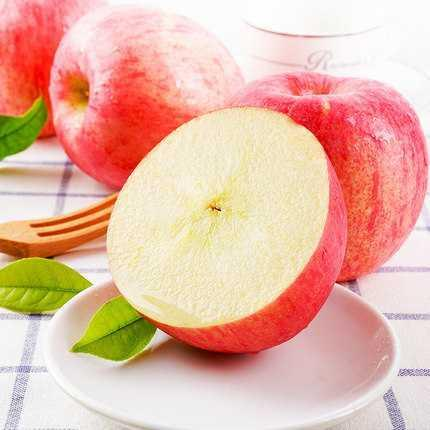apple: (105, 106, 345, 356), (230, 79, 427, 288), (50, 3, 249, 191)
